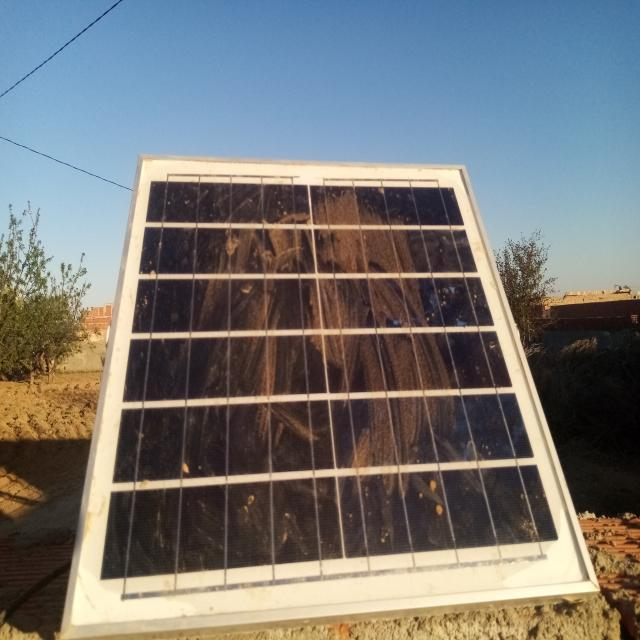faulty: (62, 162, 597, 636)
